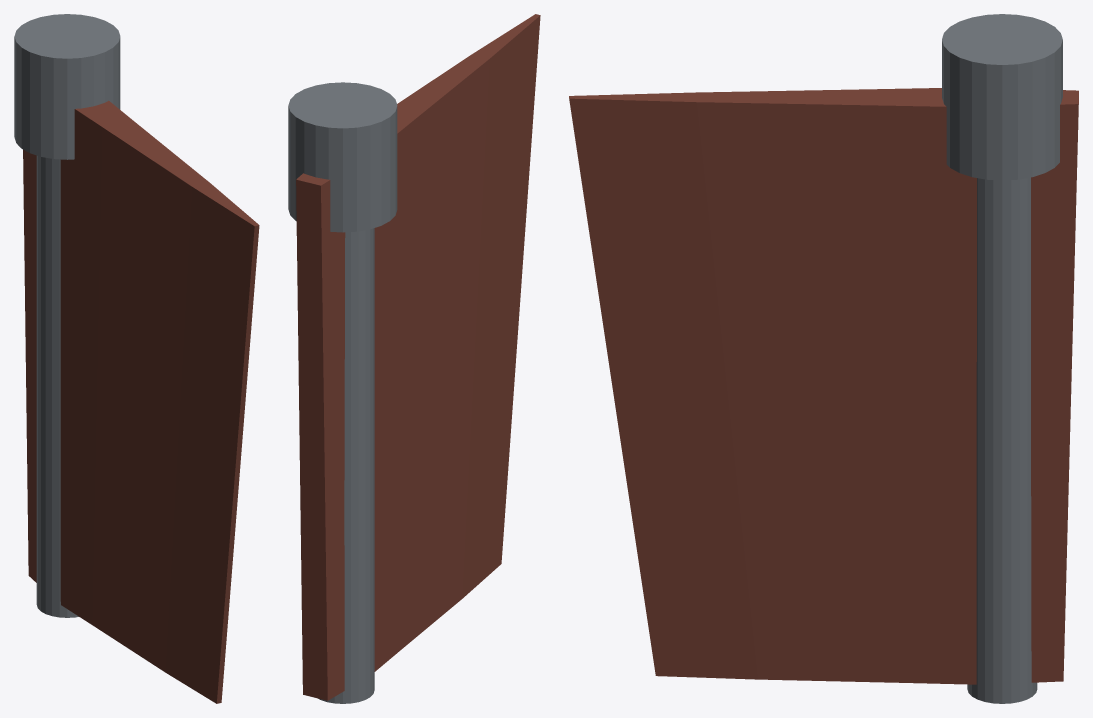
3 views of the same model, side by side, from view 1: azimuth 30°, elevation 25°; view 2: azimuth 150°, elevation 25°; view 3: azimuth 270°, elevation 25° (orthographic). The views are drawn at different scales.
Parts seen in each view (by area): view 1: component.yaw.mesh, component.root.mesh; view 2: component.yaw.mesh, component.root.mesh; view 3: component.yaw.mesh, component.root.mesh.
Part boxes in pixels (x1=…): component.yaw.mesh: x1=23, y1=100, x2=259, y2=703; component.root.mesh: x1=14, y1=14, x2=120, y2=159; component.yaw.mesh: x1=296, y1=14, x2=540, y2=703; component.root.mesh: x1=288, y1=82, x2=397, y2=232; component.yaw.mesh: x1=569, y1=88, x2=1078, y2=703; component.root.mesh: x1=942, y1=14, x2=1062, y2=180.
Size of the model in its own units: 0.38 by 2.25 by 1.6.
